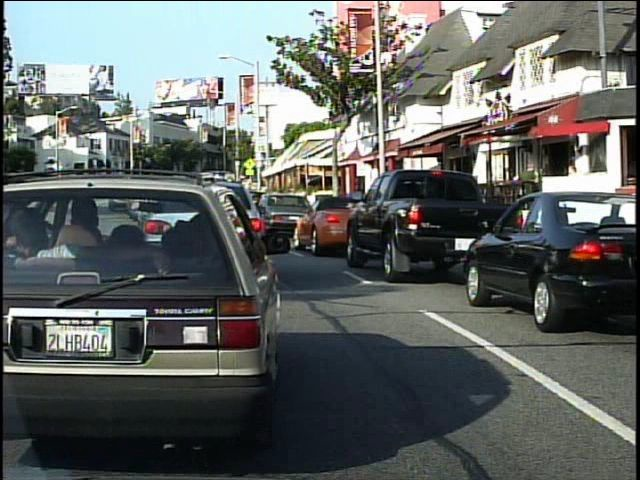person: (516, 157, 543, 225)
